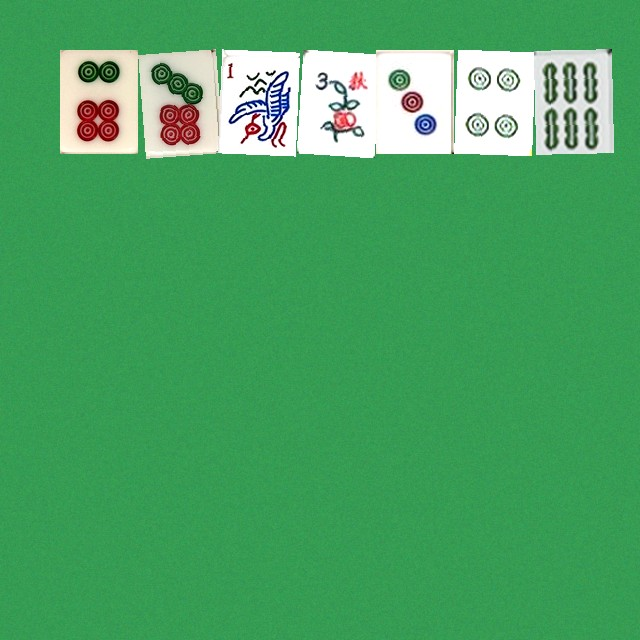tile: (59, 49, 137, 153), (138, 49, 216, 153), (217, 49, 295, 153), (296, 49, 374, 153), (375, 49, 453, 153), (454, 49, 532, 153), (533, 49, 611, 153)
